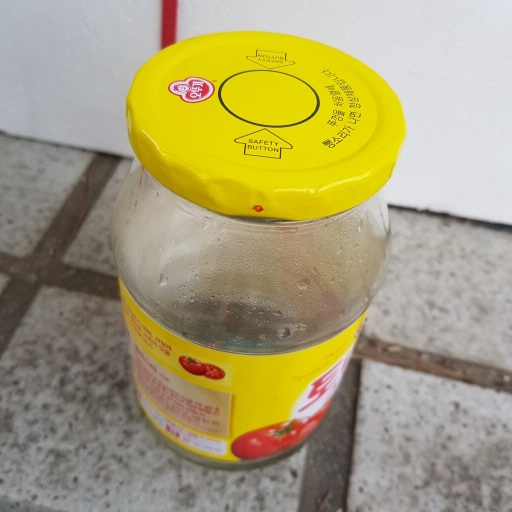Glass_5: (113, 30, 408, 476)
